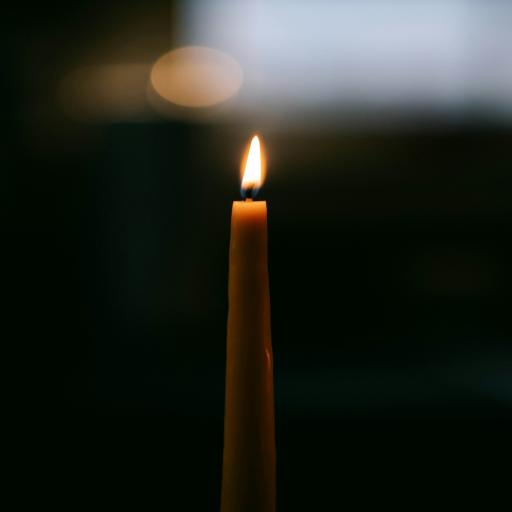candlelight: (220, 132, 278, 510), (237, 133, 265, 203)
